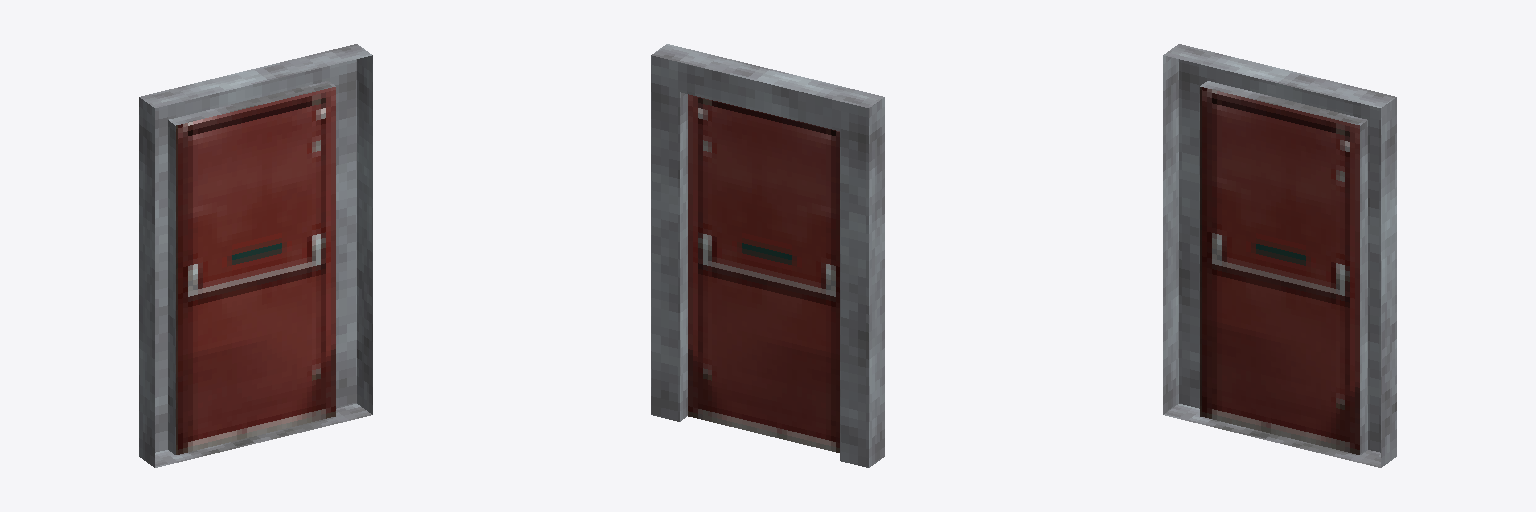
3 views of the same model, side by side, from view 1: azimuth 30°, elevation 25°; view 2: azimuth 150°, elevation 25°; view 3: azimuth 330°, elevation 25° (orthographic).
Visible parts, largest first — view 1: door_typeA; view 2: door_typeA; view 3: door_typeA.
Boxes of the visible parts, x1,y1,x2,y2 form: door_typeA: [139, 44, 372, 467]; door_typeA: [651, 44, 884, 467]; door_typeA: [1163, 44, 1396, 467].
Size of the model in its own units: 0.3978 by 0.6278 by 0.05.
2 materials, 2 textured.